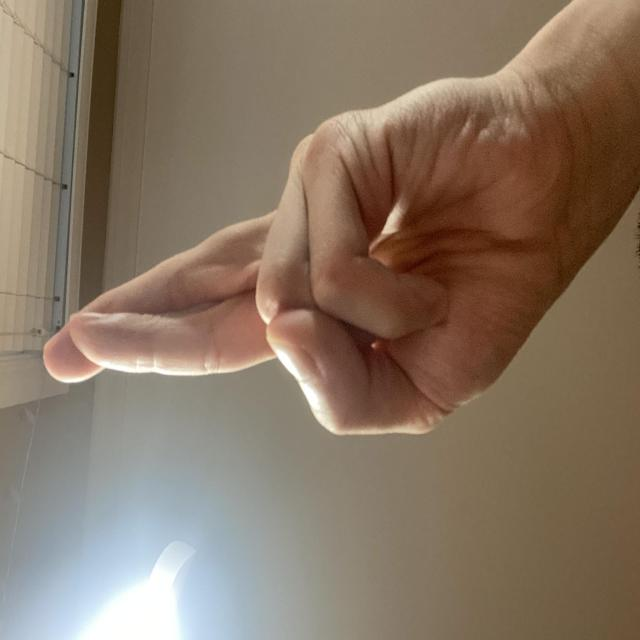R: (144, 51, 434, 640)
